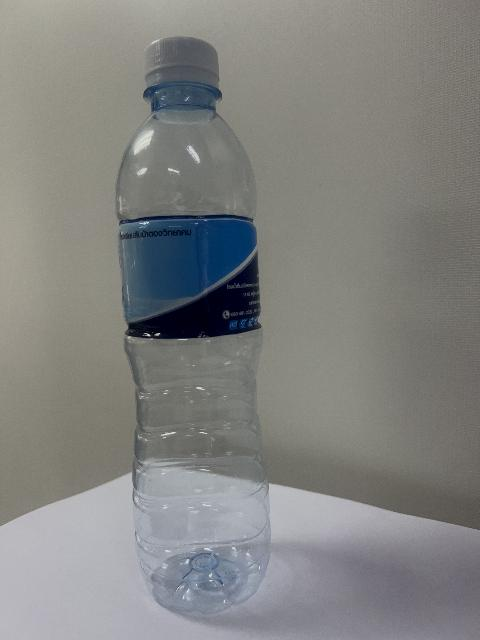bottle: (117, 38, 269, 613)
